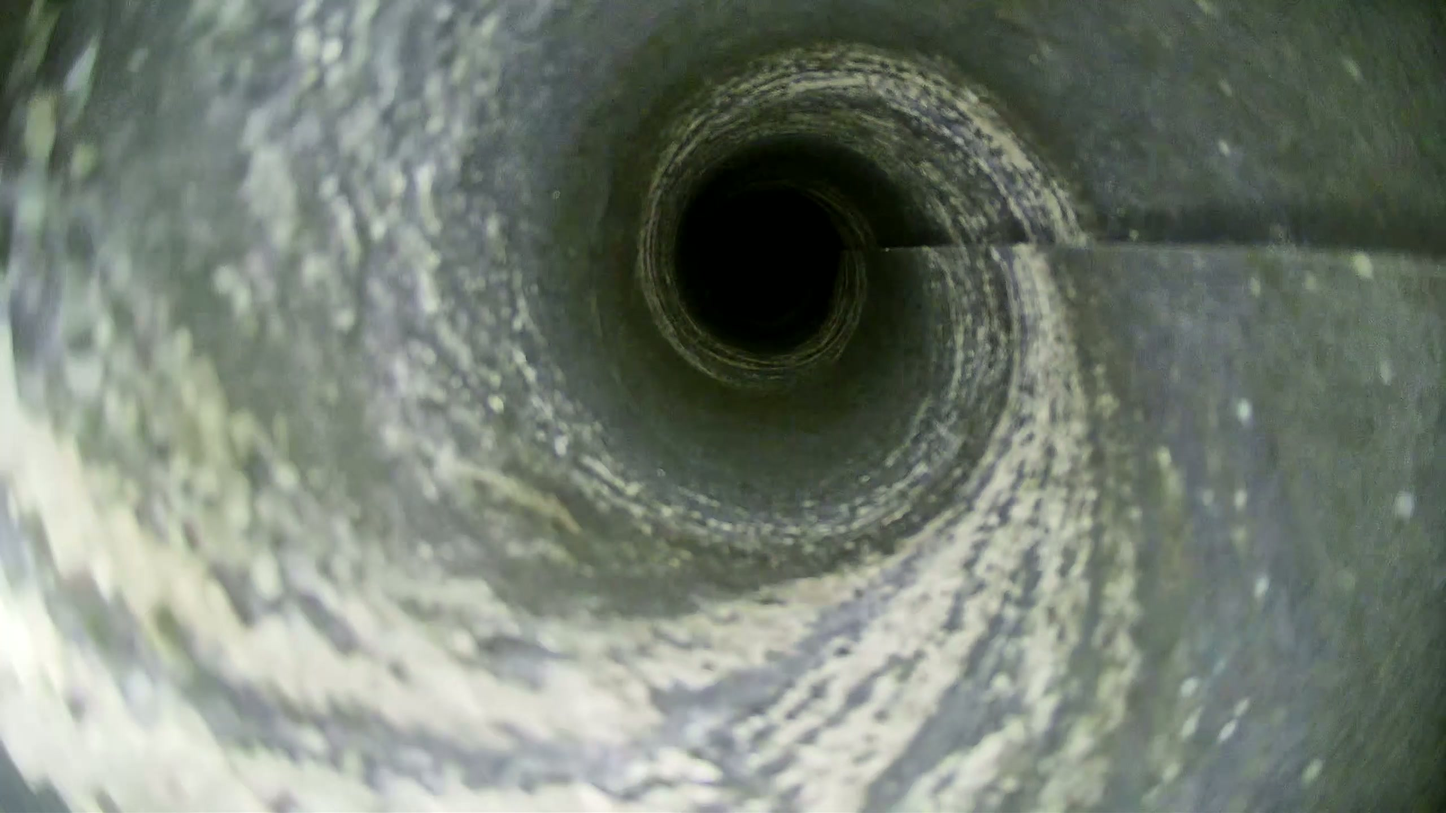hole: (698, 191, 829, 323)
